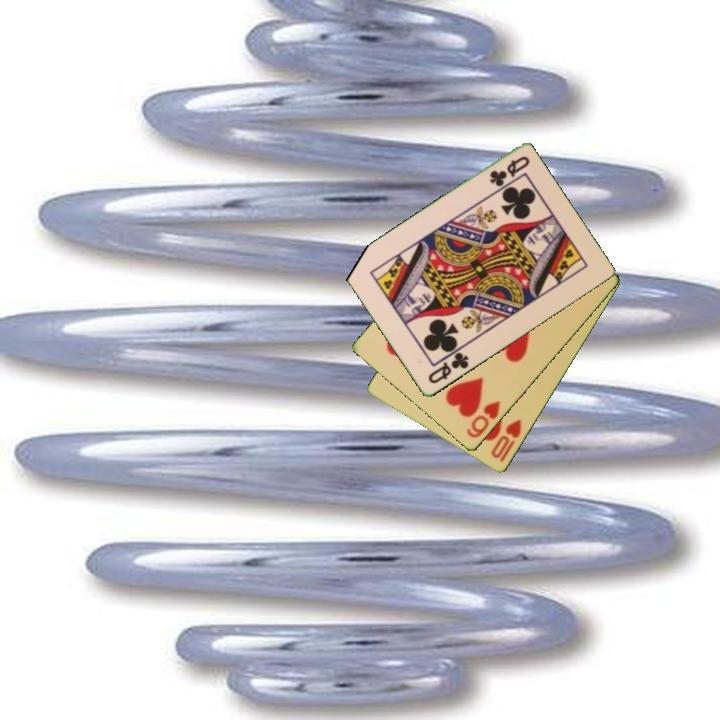10h: (487, 415, 524, 465)
6h: (463, 397, 503, 441)
Qc: (424, 349, 472, 387), (486, 153, 533, 190)
